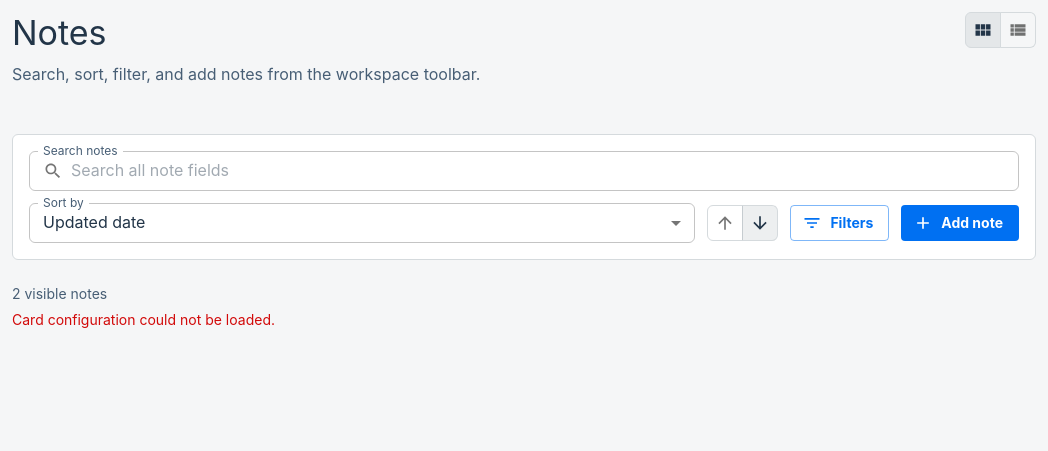
Test: NotesPage › shows a Data Grid error instead of loading when filter prerequisites fail
The width and height of the screenshot is (1048, 451).
Click the button named "Data Grid view": {"x": 1018, "y": 30} 1000,12 -> 1036,48
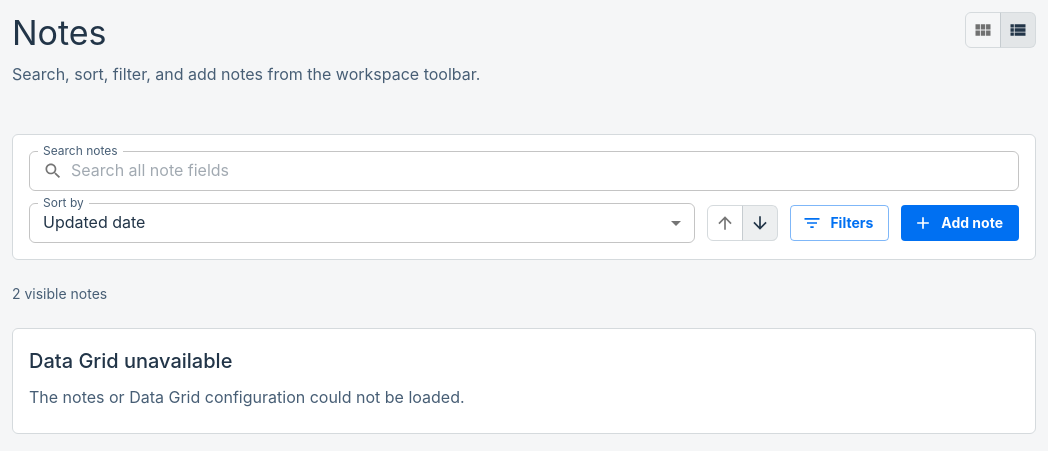
Check: the heading "Data Grid unavailable" is shown, box 29,349 -> 232,373
